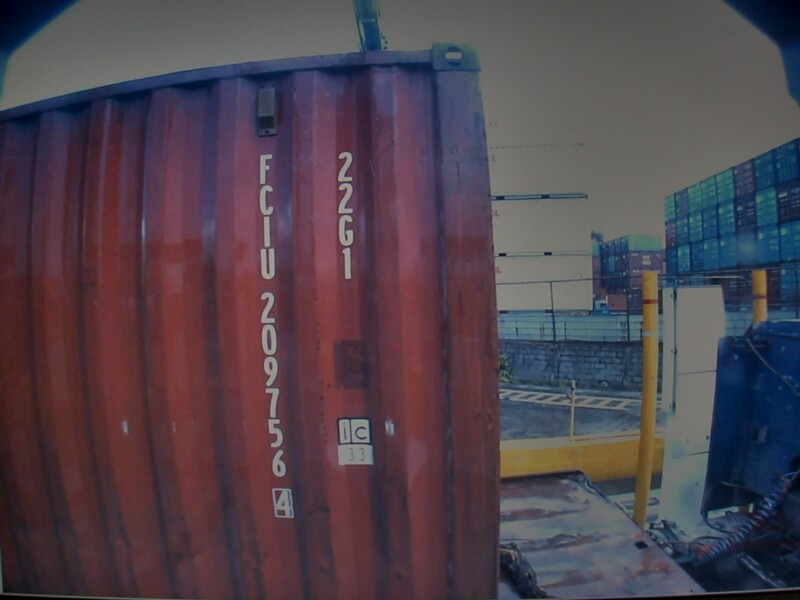container_no_door: (132, 34, 500, 529)
